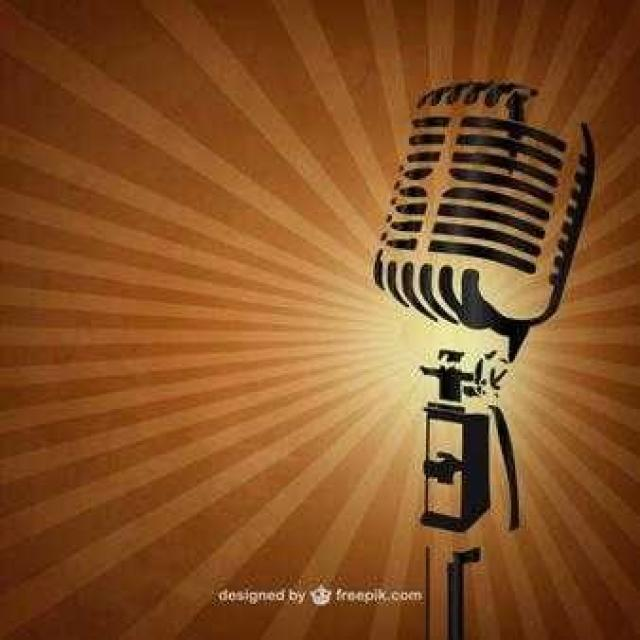microphone: (374, 80, 592, 352)
